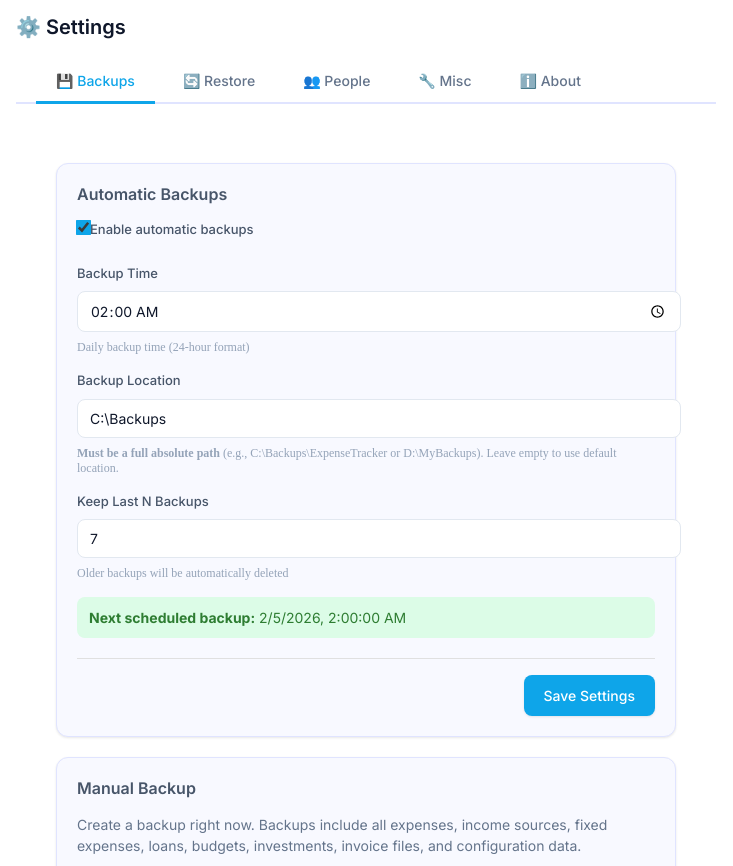
Scenario: BackupSettings › Tab navigation › should switch to About tab when clicked
Click the button "ℹ️ About" at (550,82), box x1=500 y1=60 x2=601 y2=104
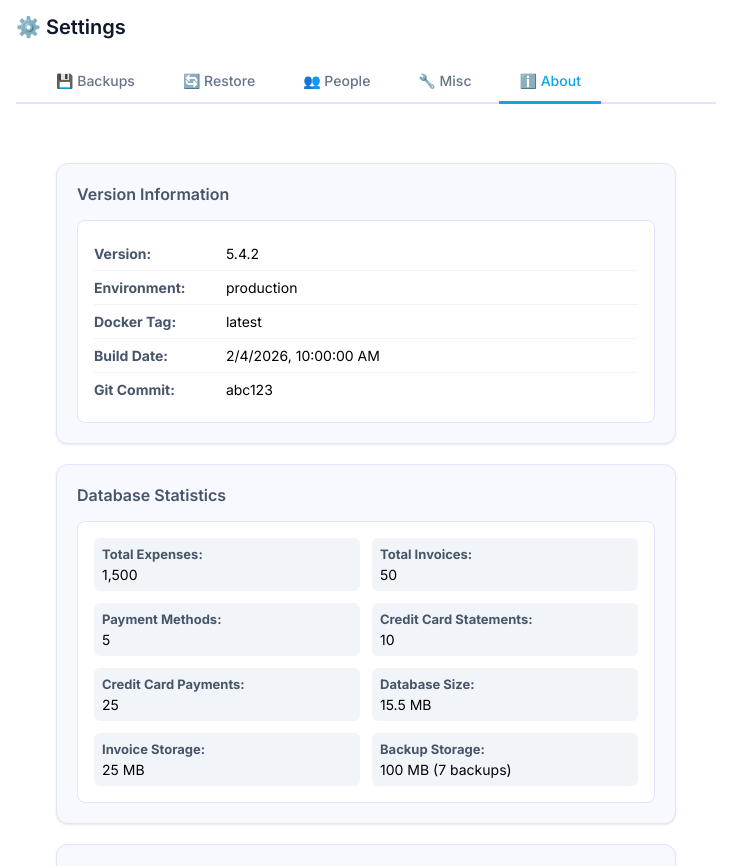
Expected: the heading "Version Information" is shown, x1=77 y1=184 x2=229 y2=204
